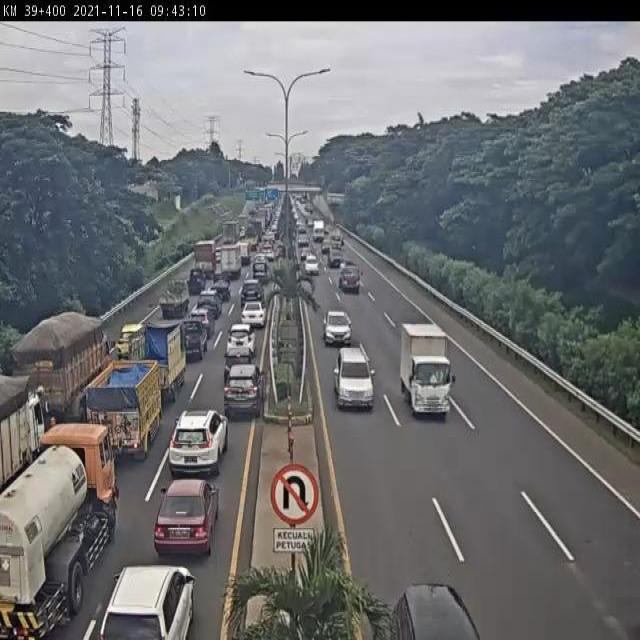car: (98, 565, 194, 640), (387, 580, 482, 640), (156, 478, 220, 558), (171, 409, 229, 476), (334, 344, 374, 407), (225, 365, 266, 420), (226, 327, 257, 362), (325, 311, 354, 344), (115, 327, 141, 356), (240, 305, 267, 331), (196, 292, 222, 317), (239, 284, 263, 309), (209, 276, 229, 304), (190, 312, 213, 336), (188, 269, 207, 295), (250, 267, 267, 288), (304, 255, 318, 276), (329, 246, 342, 266), (254, 257, 268, 272), (260, 248, 273, 263), (298, 235, 309, 248), (301, 248, 312, 260)
small truck: (399, 321, 453, 419), (182, 319, 208, 361), (158, 281, 188, 315), (339, 263, 361, 292), (233, 244, 249, 268), (314, 220, 324, 241)
truck-l-: (12, 315, 110, 424), (0, 378, 45, 498)
truck-m-: (0, 421, 117, 640), (88, 359, 163, 461), (128, 320, 187, 400), (192, 243, 214, 280), (217, 249, 239, 283), (220, 221, 238, 247)
